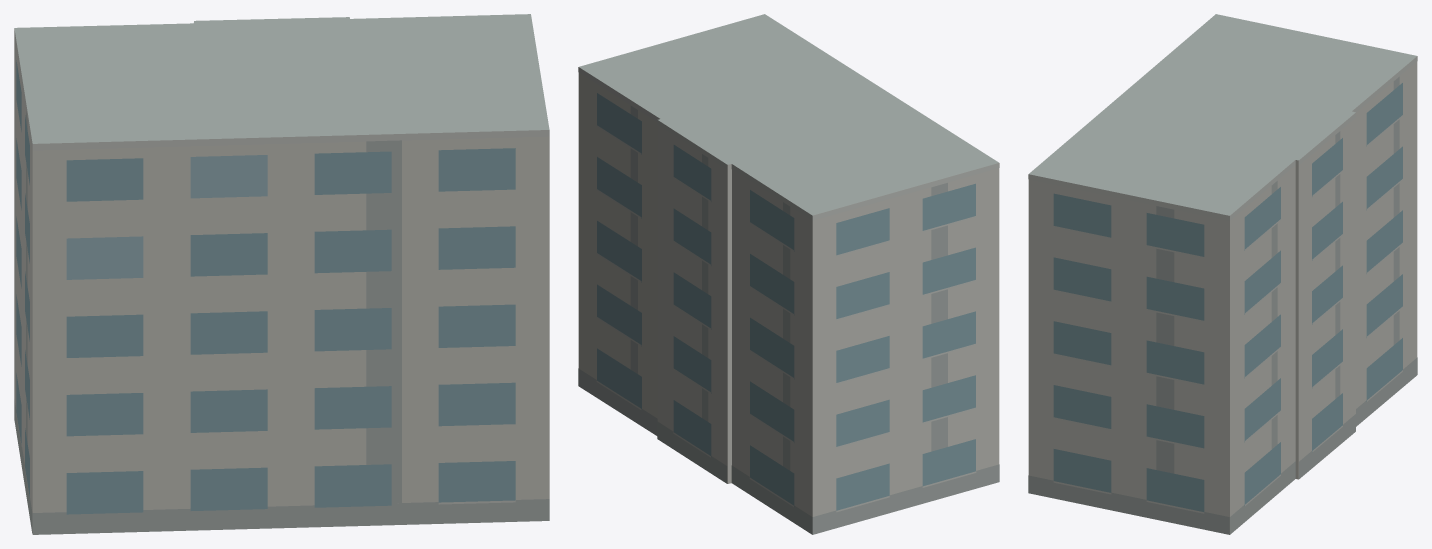
Rendered from survey-upis-32891798.glb.
3 renders of one model, left to right at view 1: azimuth 30°, elevation 25°; view 2: azimuth 150°, elevation 25°; view 3: azimuth 270°, elevation 25°, orthographic. The views are drawn at different scales.
Parts seen in each view (by area): view 1: survey-upis-32891798.tmp; view 2: survey-upis-32891798.tmp; view 3: survey-upis-32891798.tmp.
Boxes of the visible parts, x1=… form: survey-upis-32891798.tmp: x1=14, y1=14, x2=549, y2=534; survey-upis-32891798.tmp: x1=578, y1=14, x2=999, y2=534; survey-upis-32891798.tmp: x1=1028, y1=14, x2=1417, y2=534.
Size of the model in its own units: 19.82 by 14.6 by 16.14.
